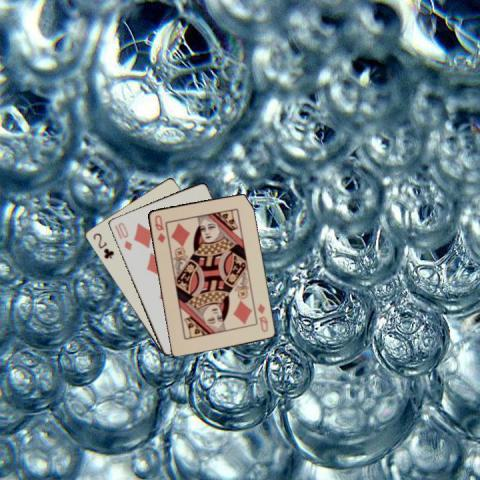10d: (115, 219, 133, 252)
2c: (90, 230, 115, 260)
Qd: (151, 212, 167, 244), (254, 300, 269, 333)
